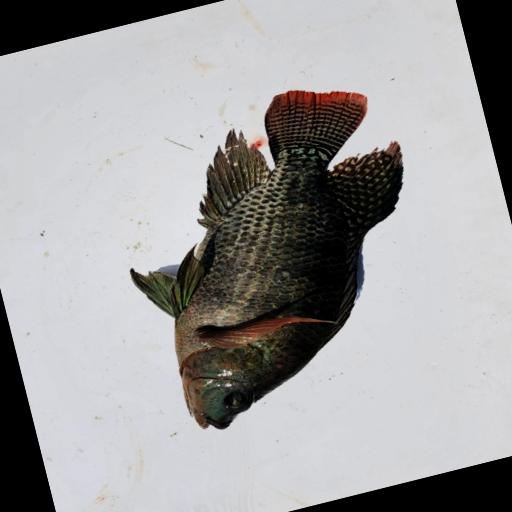Tilapia: (97, 68, 457, 442)
